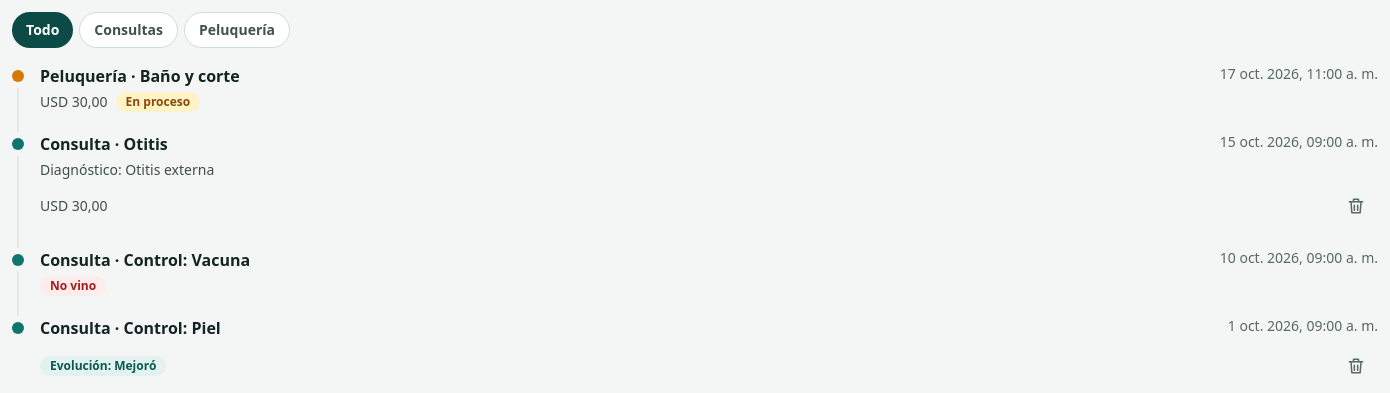
it: PatientTimeline › muestra todo con montos y estado, y filtra por tipo
The width and height of the screenshot is (1390, 393).
Expected: the text "Peluquería · Baño y corte" is shown, [40,64,240,88]
Expected: the text "Consulta · Otitis" is shown, [40,132,168,156]
Click the button "Consultas".
click(129, 30)  # box [79,12,178,48]
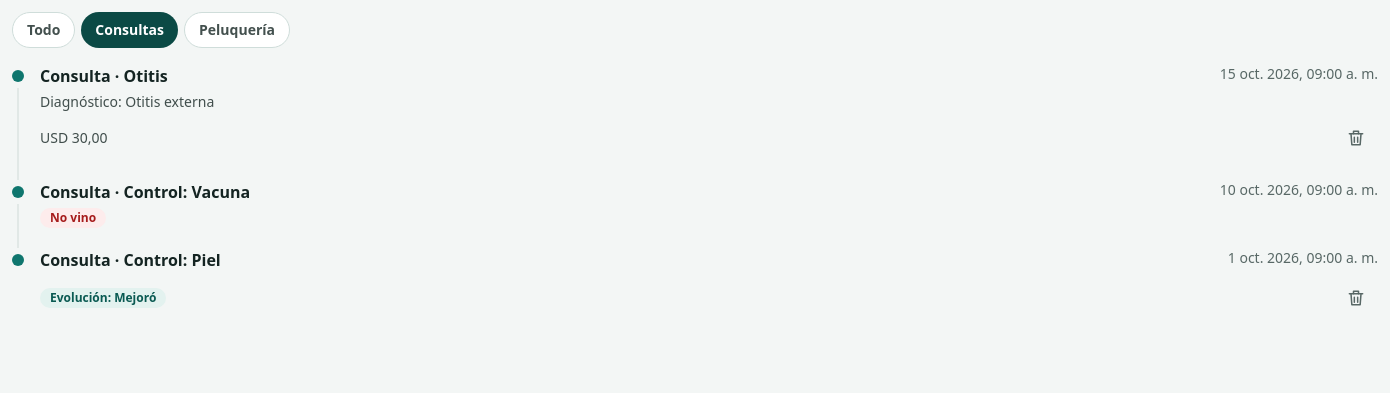
Now the text "Peluquería · Baño y corte" is gone
Click the button "Peluquería".
click(237, 30)  # box [184,12,290,48]
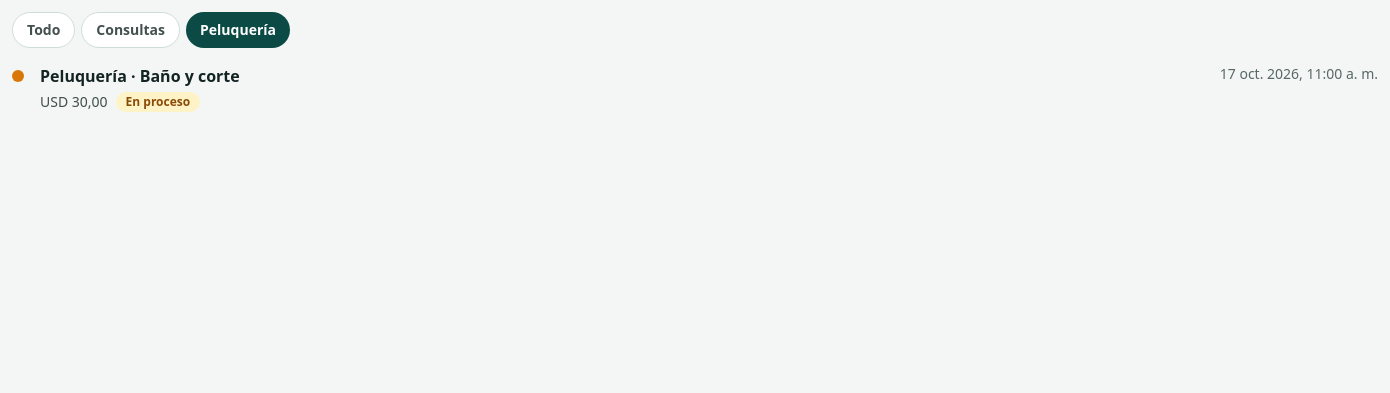
Now the text "Consulta · Otitis" is gone
